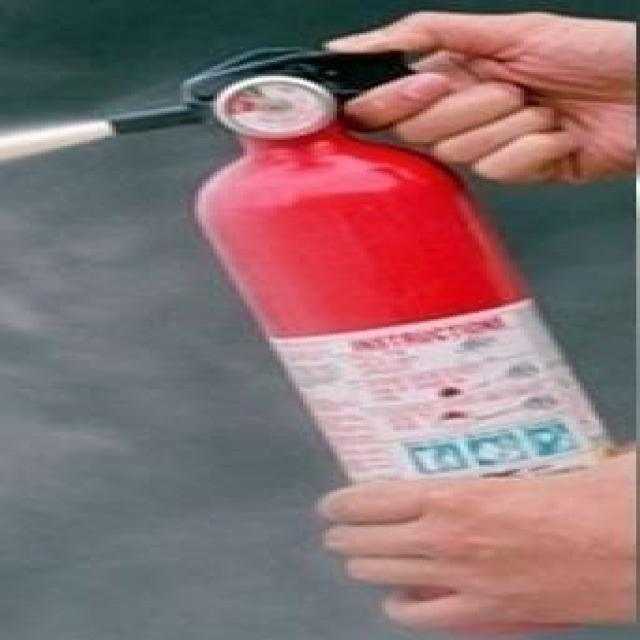fire_extinguisher: (90, 35, 636, 634)
